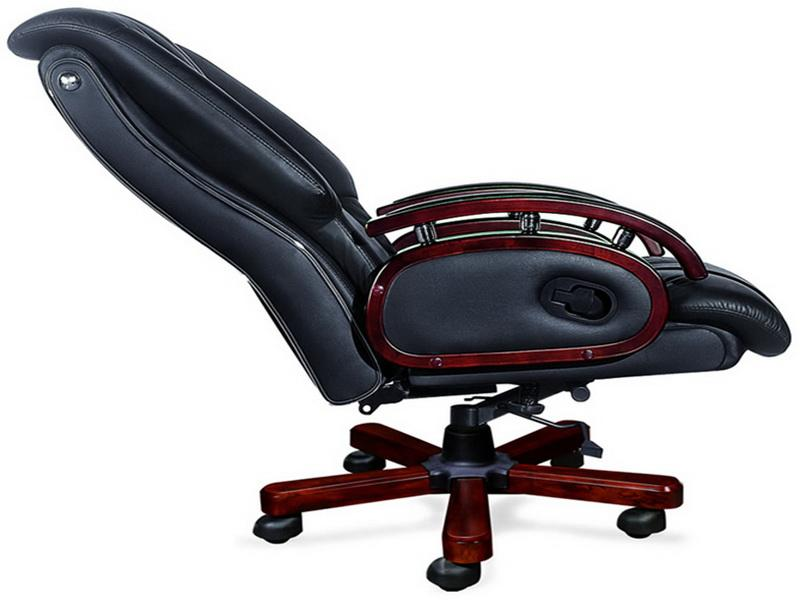chairs: (1, 1, 796, 592)
